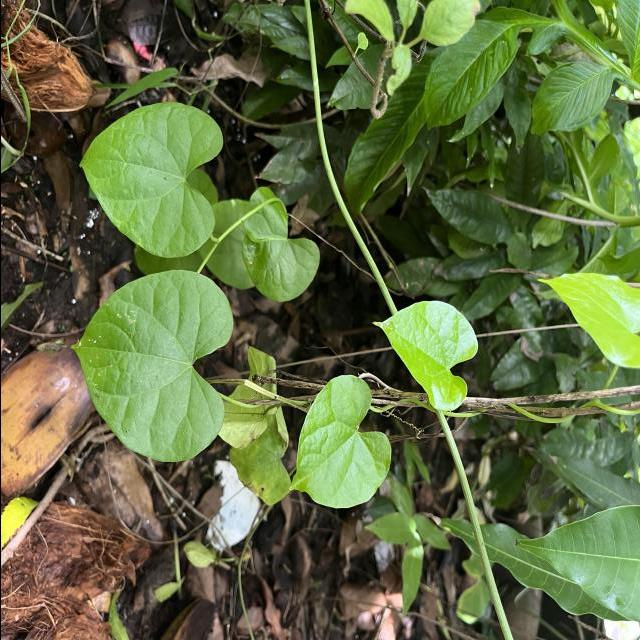Tinospora cordifolia: (68, 264, 234, 466), (75, 98, 226, 263), (286, 371, 394, 512), (368, 298, 481, 416)
